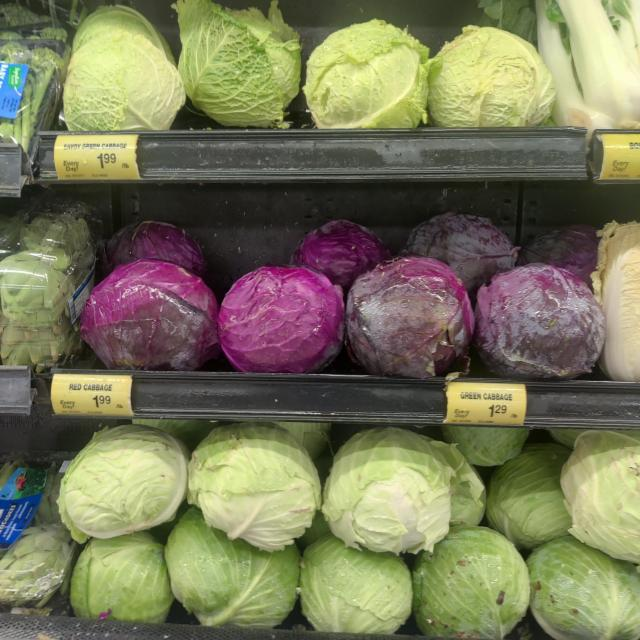Cabbage: (39, 416, 194, 543), (323, 420, 461, 562), (293, 0, 428, 144), (169, 0, 307, 135), (459, 262, 606, 384), (165, 508, 297, 640), (204, 414, 322, 553), (212, 252, 352, 366), (73, 258, 215, 370), (430, 21, 560, 140), (410, 525, 543, 640), (359, 256, 475, 386), (56, 17, 182, 134), (280, 533, 413, 640), (71, 538, 178, 638)
